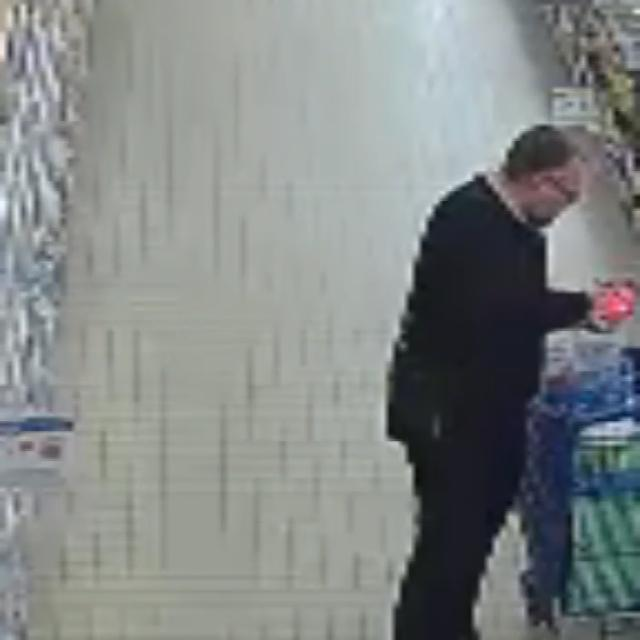article: (592, 280, 636, 317)
bags: (386, 355, 454, 443)
hands: (581, 315, 625, 335)
person: (387, 124, 604, 639)
